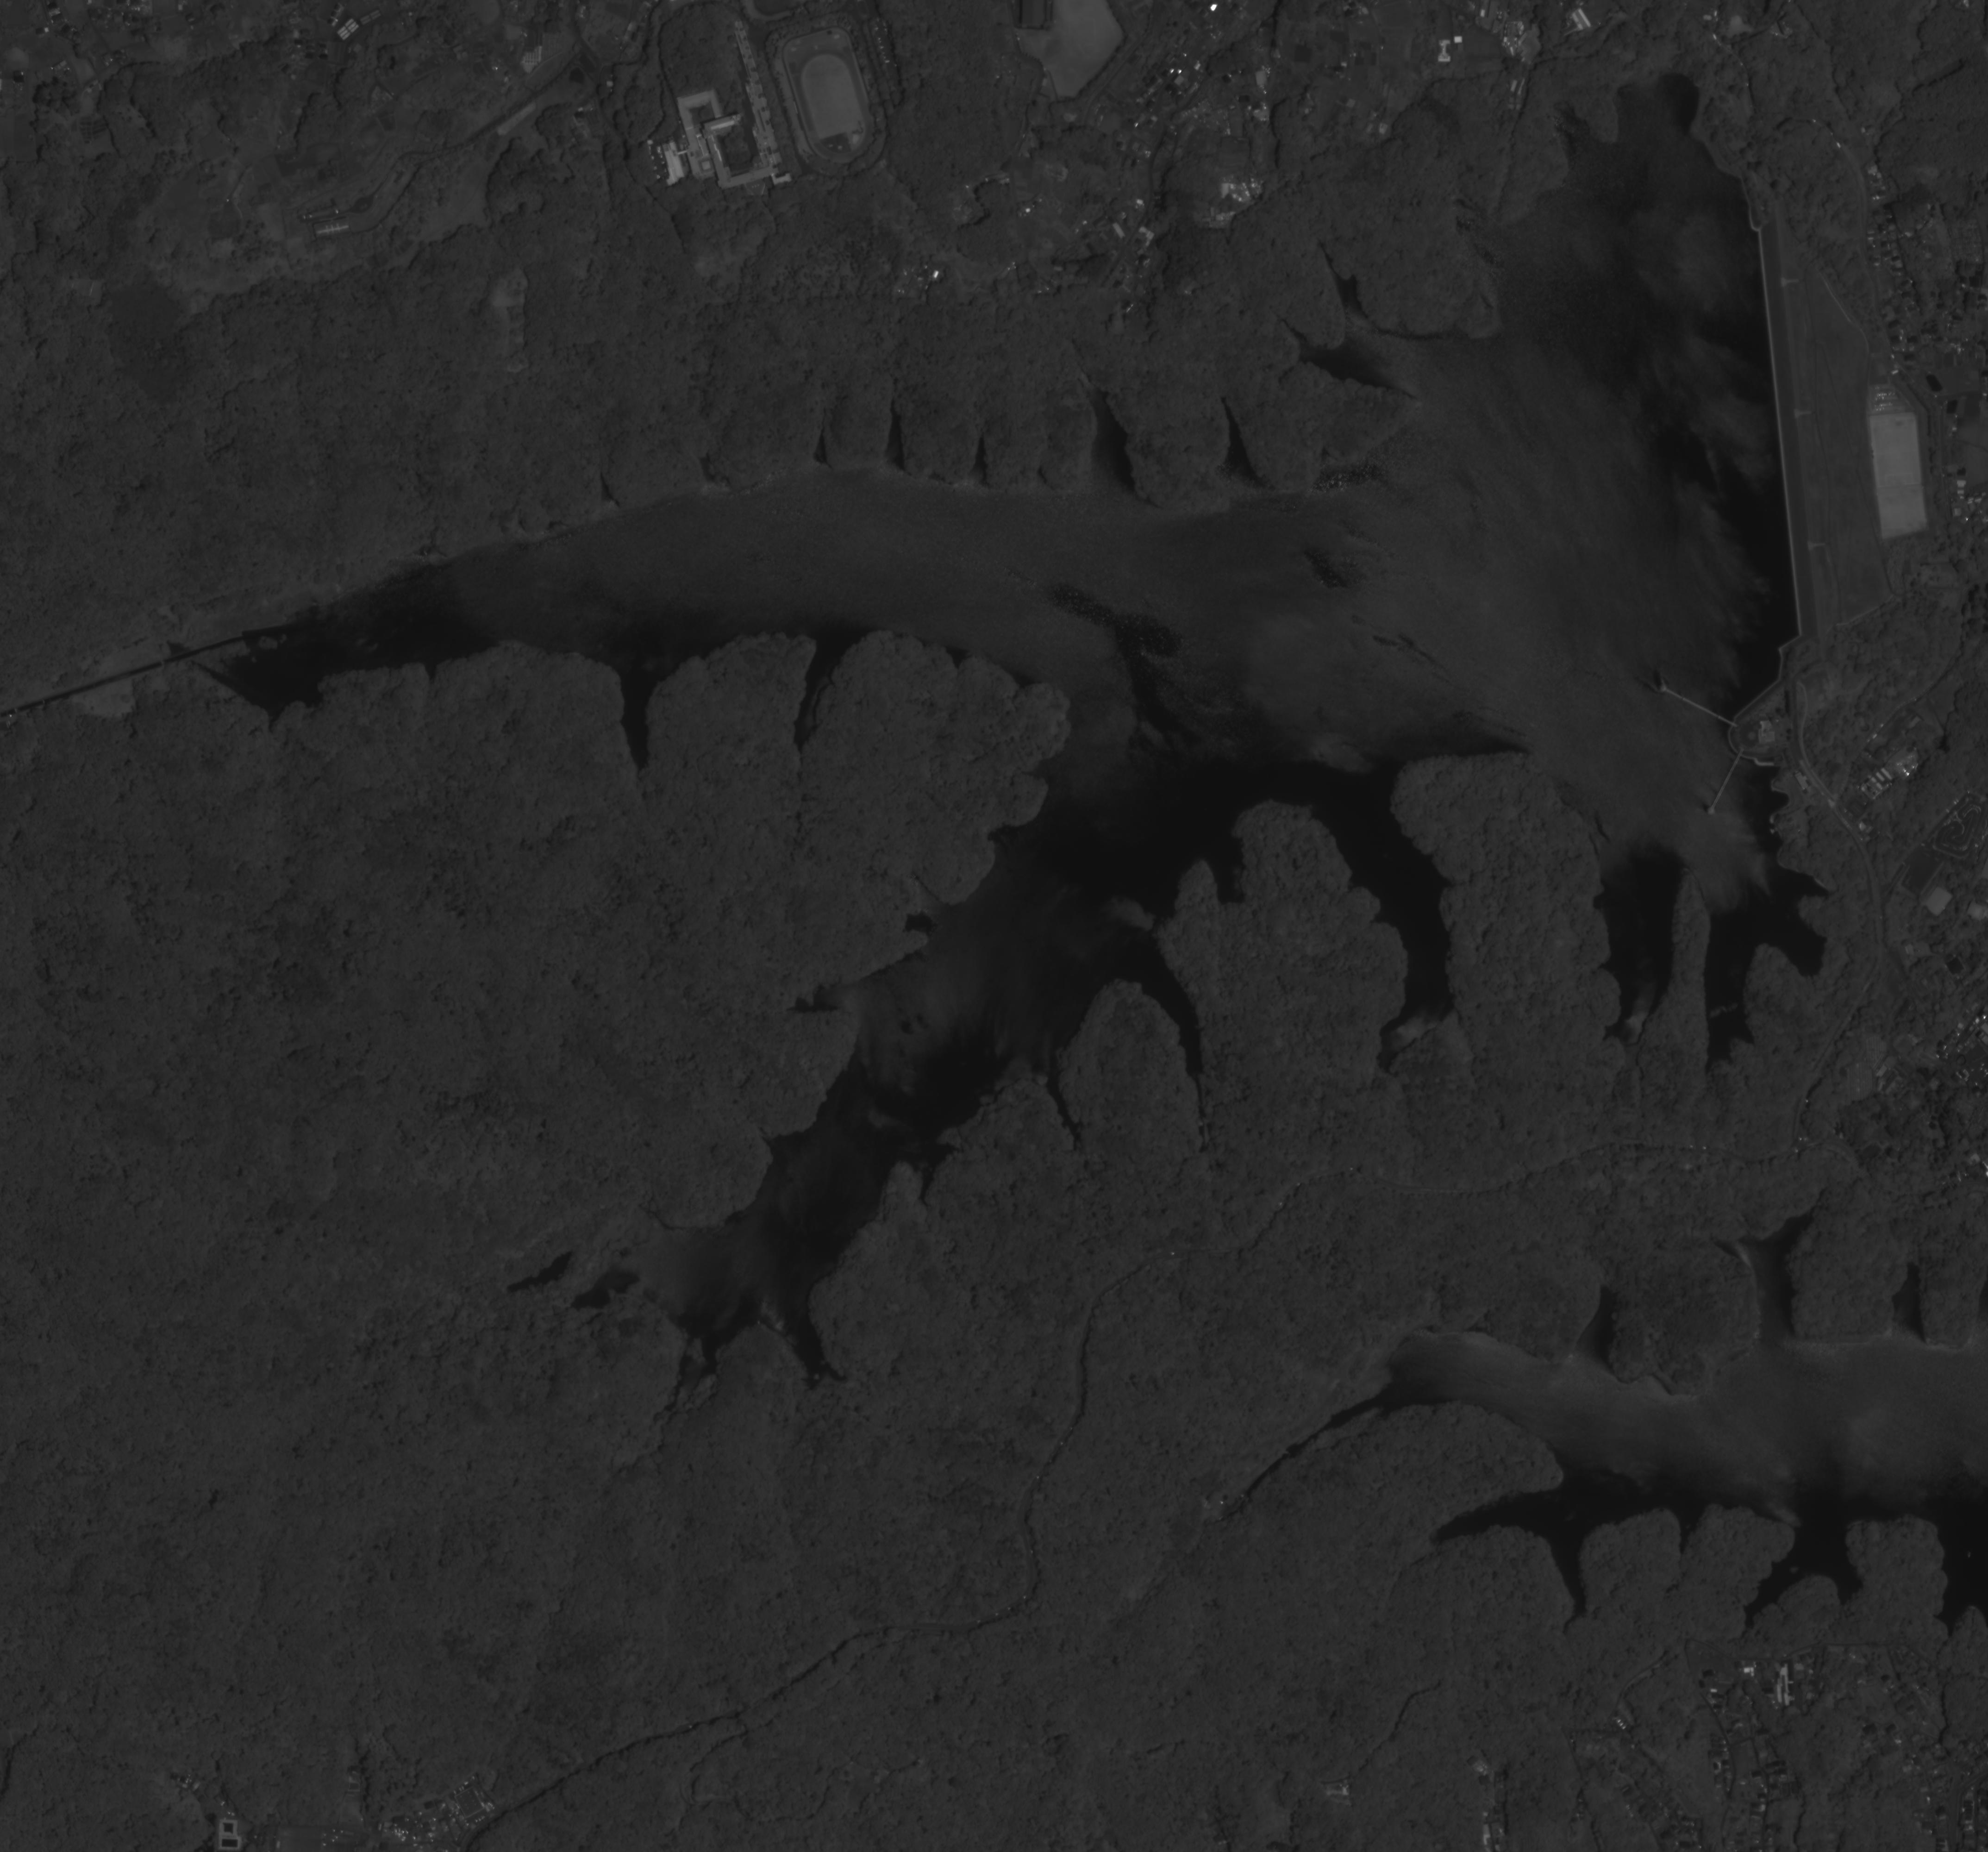harbor: (1659, 684, 1739, 729), (1708, 745, 1748, 815)
